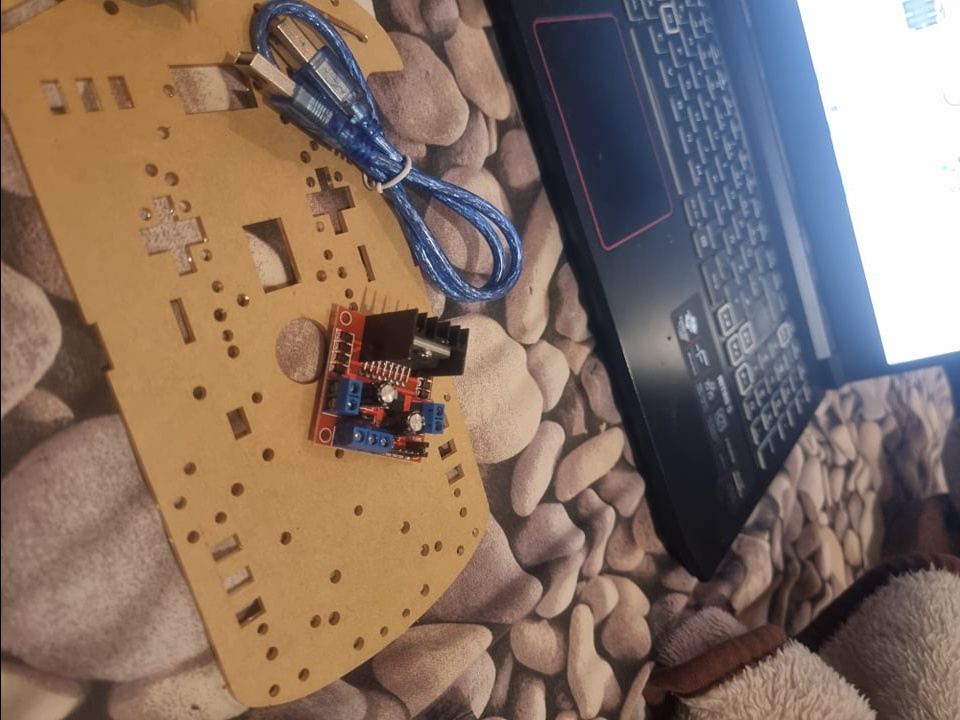MOTOR: (314, 301, 471, 461)
